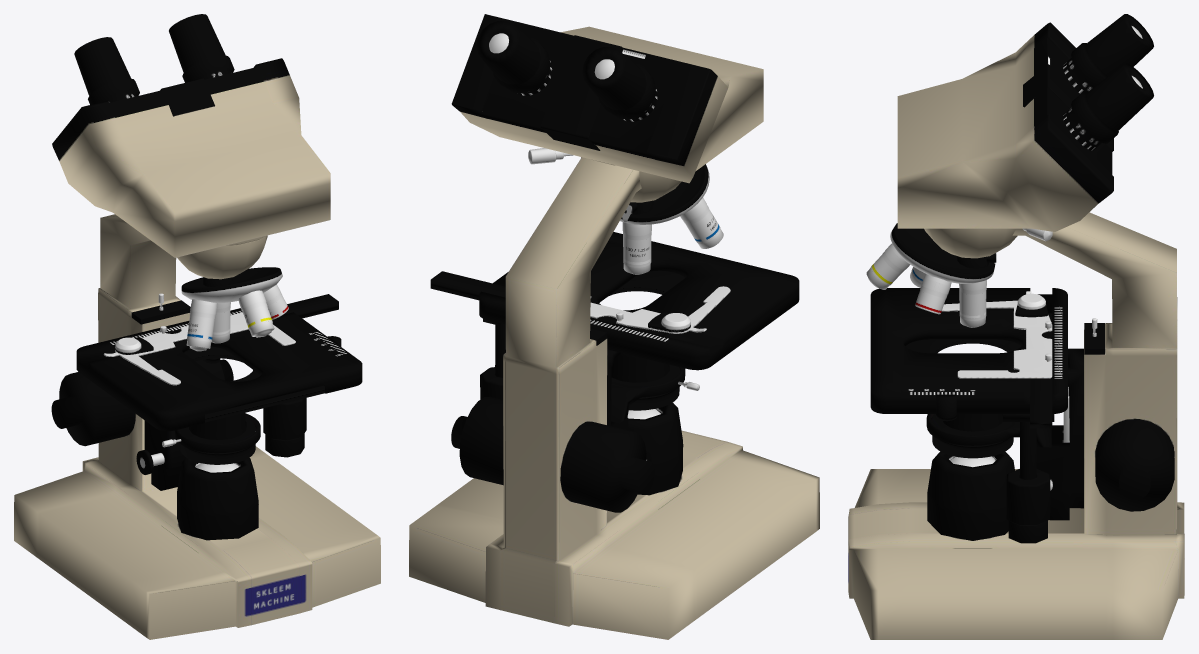
Rendered from 5_microscope.glb.
The picture shows the model from 3 angles, left to right: view 1: azimuth 30°, elevation 25°; view 2: azimuth 150°, elevation 25°; view 3: azimuth 270°, elevation 25°; orthographic projection. The views are drawn at different scales.
Parts seen in each view (by area): view 1: 01_LP_UV_full.003; view 2: 01_LP_UV_full.003; view 3: 01_LP_UV_full.003.
Boxes of the visible parts, x1,y1,x2,y2 form: 01_LP_UV_full.003: [14, 14, 380, 639]; 01_LP_UV_full.003: [409, 14, 819, 639]; 01_LP_UV_full.003: [848, 14, 1184, 639].
Size of the model in its own units: 1.16 by 2.1 by 1.19.
Materials: 1 (1 with a texture image).
